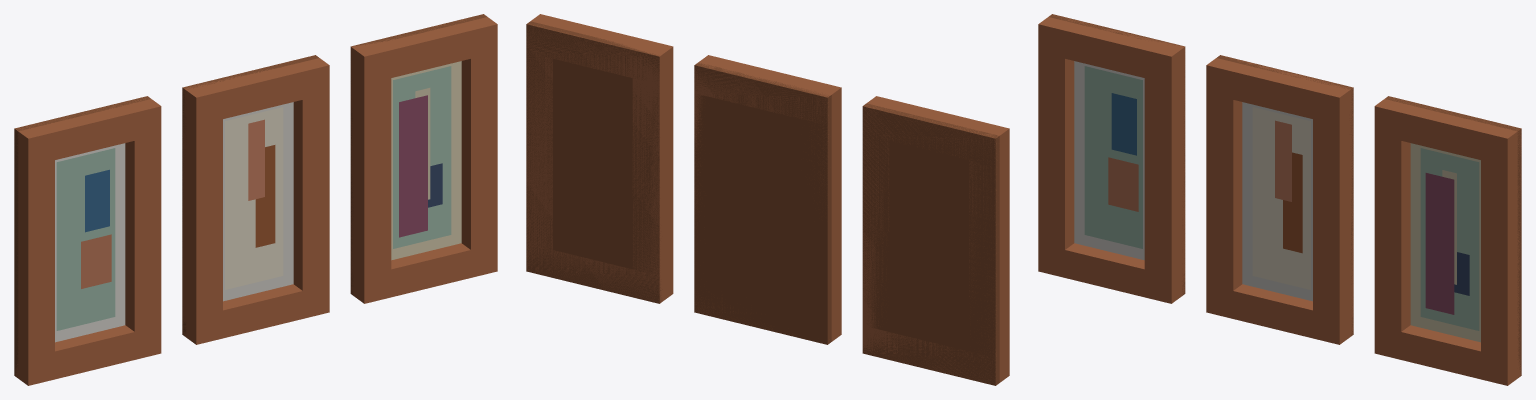
Rendered from picture-frame-22.glb.
3 views of the same model, side by side, from view 1: azimuth 30°, elevation 25°; view 2: azimuth 150°, elevation 25°; view 3: azimuth 330°, elevation 25° (orthographic).
Parts seen in each view (by area): view 1: picture_frame_22; view 2: picture_frame_22; view 3: picture_frame_22.
Boxes of the visible parts, x1=… form: picture_frame_22: x1=14, y1=14, x2=497, y2=385; picture_frame_22: x1=526, y1=14, x2=1009, y2=385; picture_frame_22: x1=1038, y1=14, x2=1521, y2=385.
Bounding box in the file's own units: 0.8077 × 0.4066 × 0.0416.
